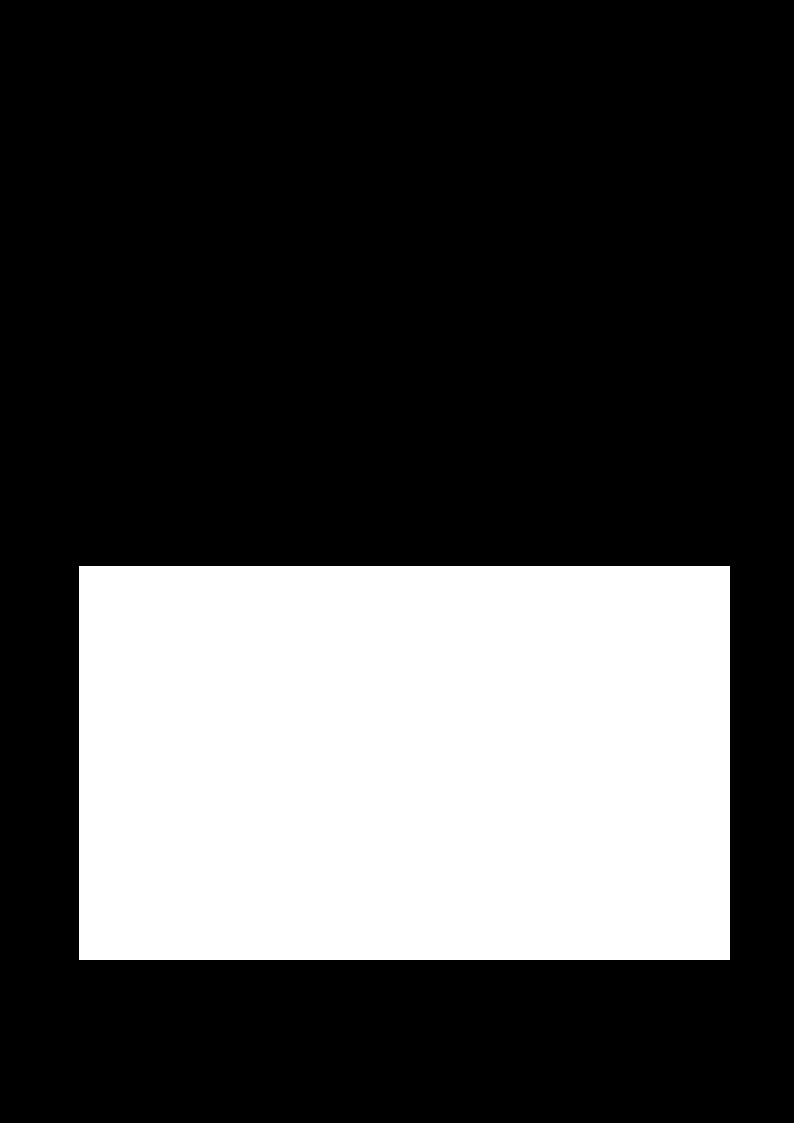table: (79, 566, 729, 959)
